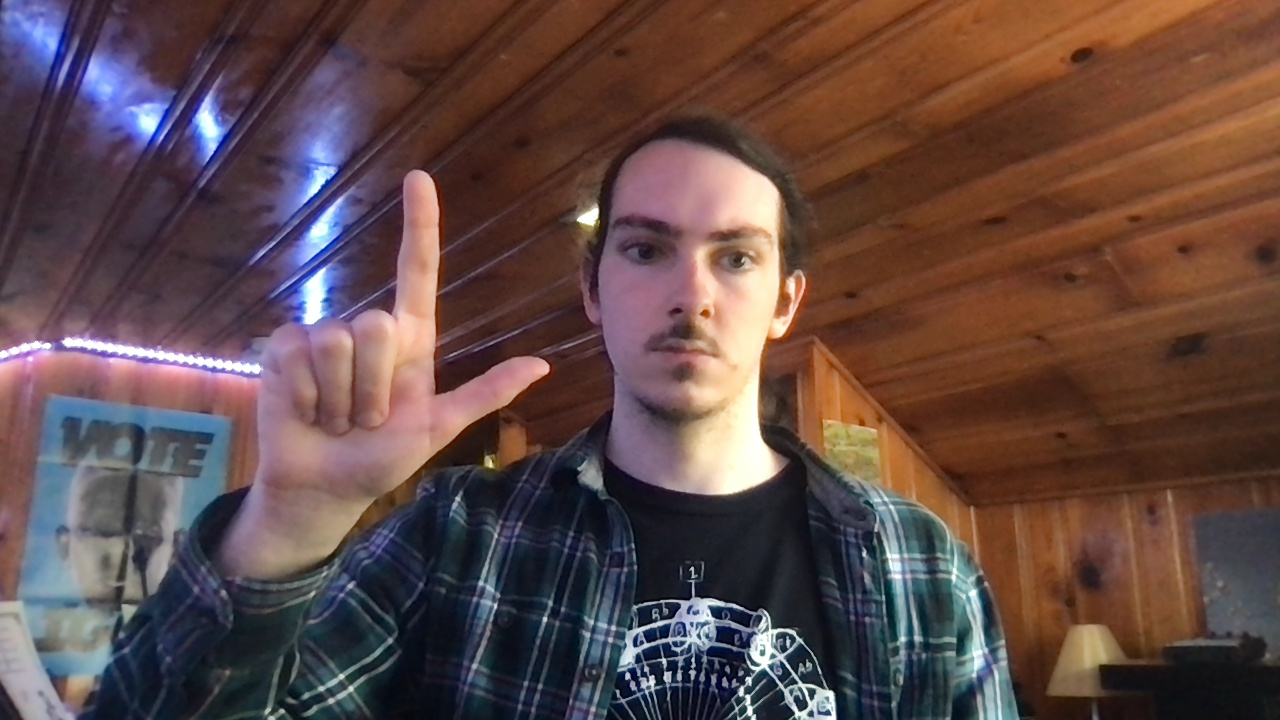l: (254, 165, 553, 496)
